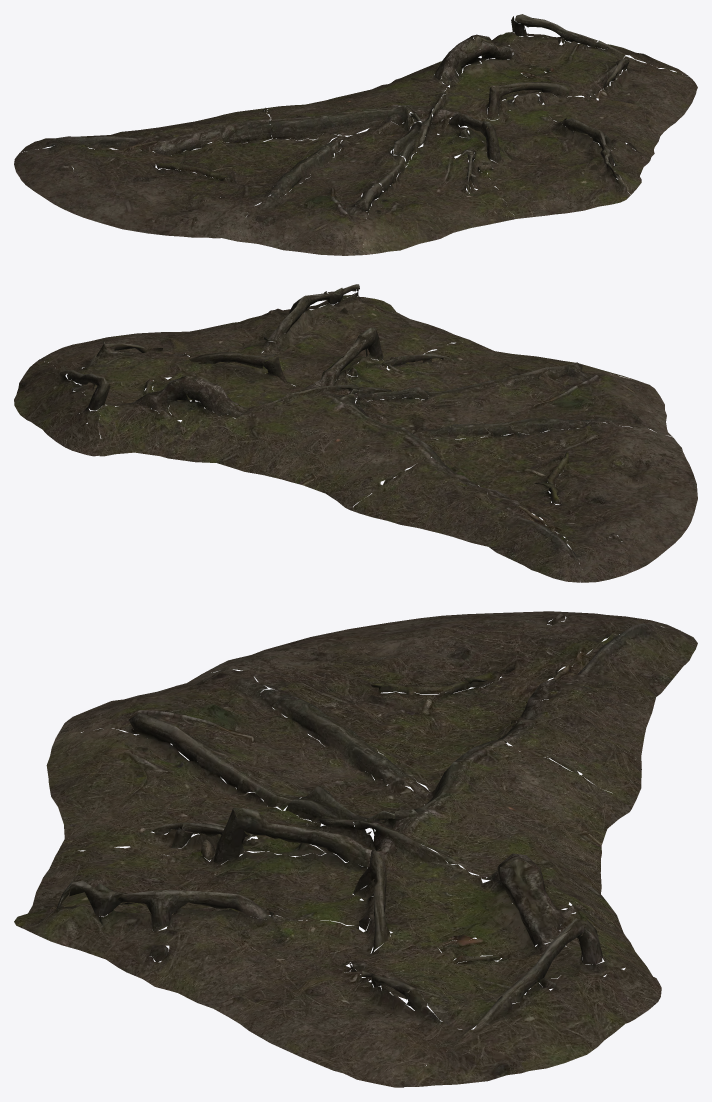
File: pine-roots-b.glb
The picture shows the model from 3 angles, top to bottom: view 1: azimuth 30°, elevation 25°; view 2: azimuth 150°, elevation 25°; view 3: azimuth 270°, elevation 25°; orthographic projection. The views are drawn at different scales.
Visible parts, largest first — view 1: pine_roots_b; view 2: pine_roots_b; view 3: pine_roots_b.
Boxes of the visible parts, <box> form: pine_roots_b: <box>14,14,697,255</box>; pine_roots_b: <box>14,284,697,582</box>; pine_roots_b: <box>14,611,697,1087</box>.
Size of the model in its own units: 1.63 by 0.1468 by 0.9933.
Materials: 1 (1 with a texture image).
